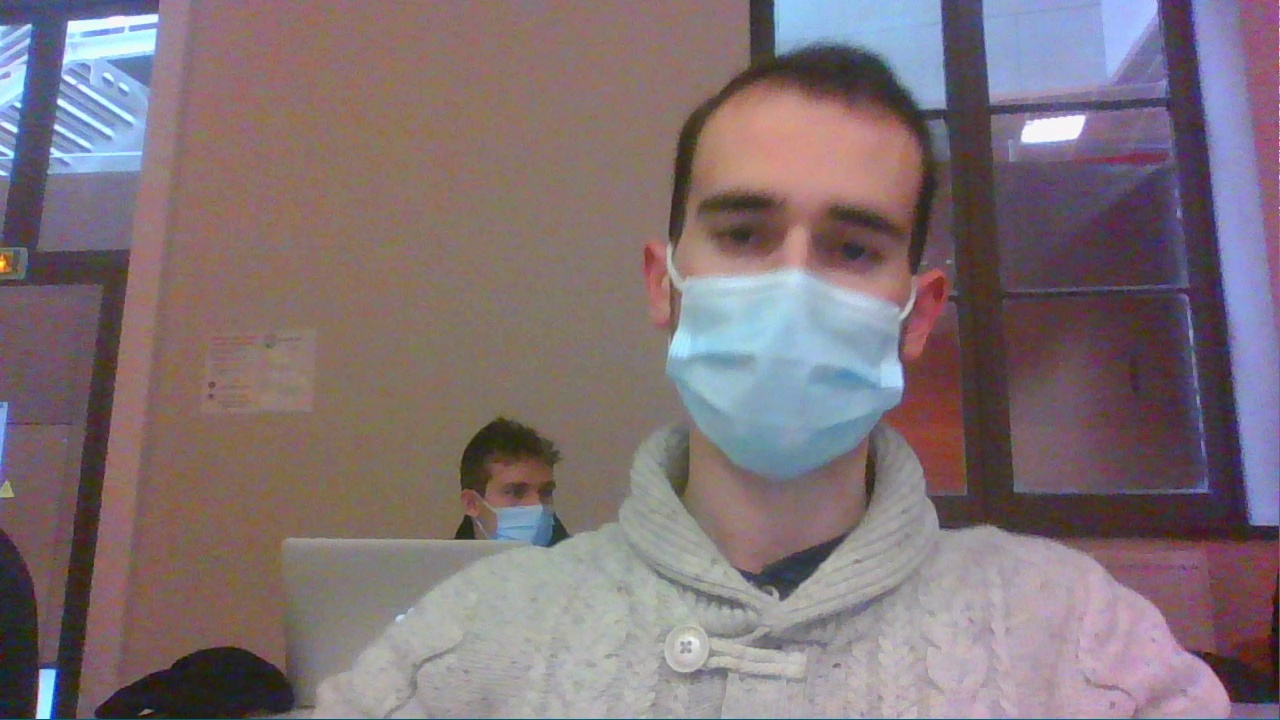mask: (602, 34, 922, 483), (457, 417, 564, 545)
